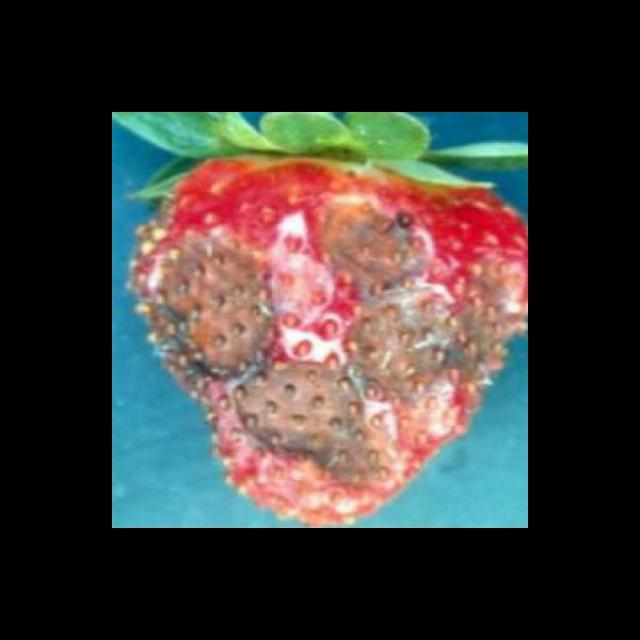Anthracnose Fruit Rot: (132, 189, 528, 498)
